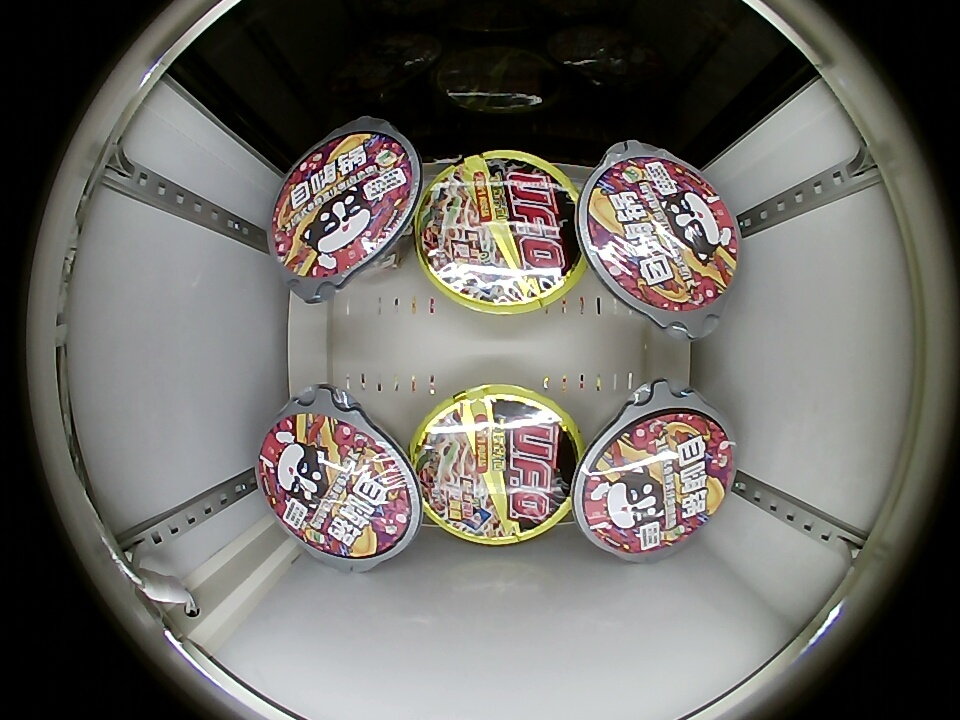ufo: (415, 149, 587, 315), (408, 384, 582, 546)
zihaiguo: (587, 156, 738, 312), (258, 412, 413, 559), (583, 407, 731, 553), (273, 129, 412, 278)
